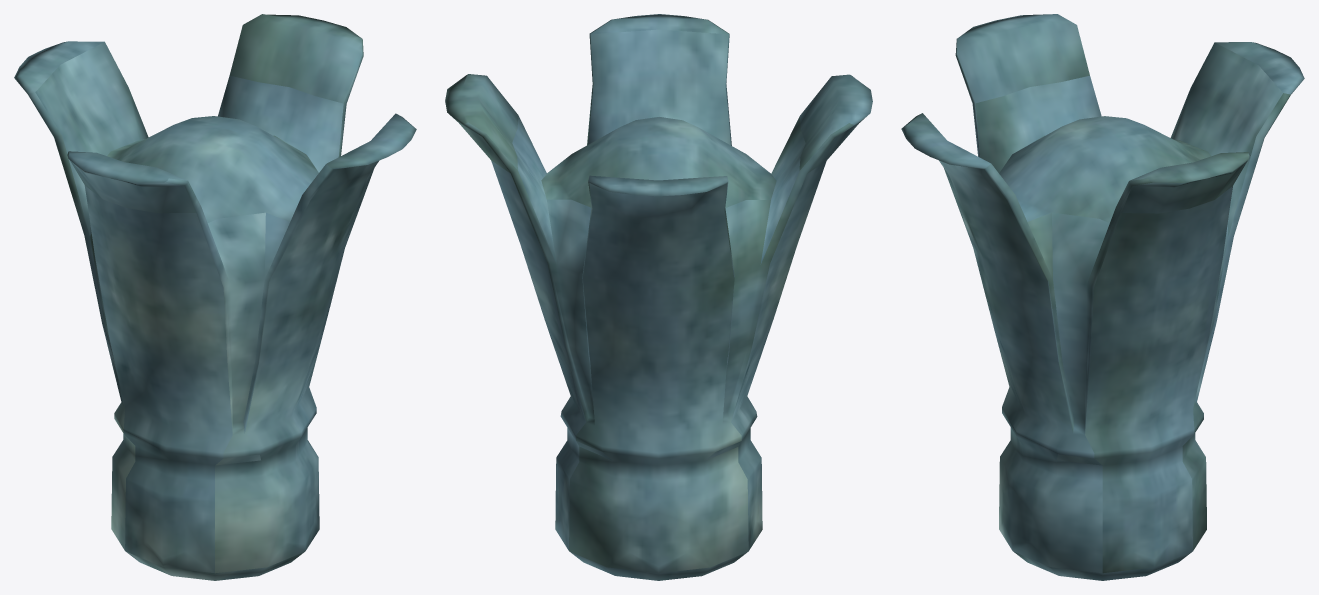
3 views of the same model, side by side, from view 1: azimuth 30°, elevation 25°; view 2: azimuth 150°, elevation 25°; view 3: azimuth 270°, elevation 25° (orthographic).
Visible parts, largest first — view 1: qingtong3; view 2: qingtong3; view 3: qingtong3.
Part boxes in pixels (bbox=[...]): qingtong3: bbox=[14, 14, 416, 580]; qingtong3: bbox=[445, 14, 872, 580]; qingtong3: bbox=[901, 14, 1304, 580].
Bounding box in the file's own units: 2.02 × 2.52 × 2.06.
